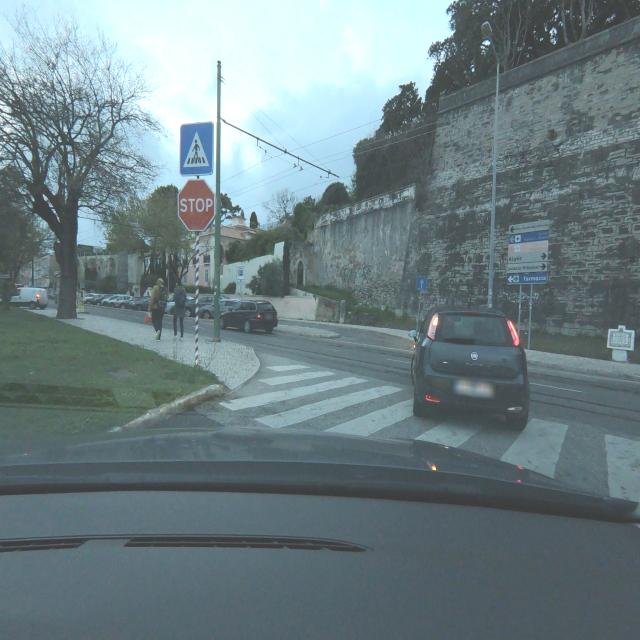car: (408, 303, 530, 428), (213, 296, 279, 334), (195, 294, 238, 320), (9, 287, 49, 308), (184, 292, 215, 316), (101, 294, 131, 308), (46, 287, 59, 300)
